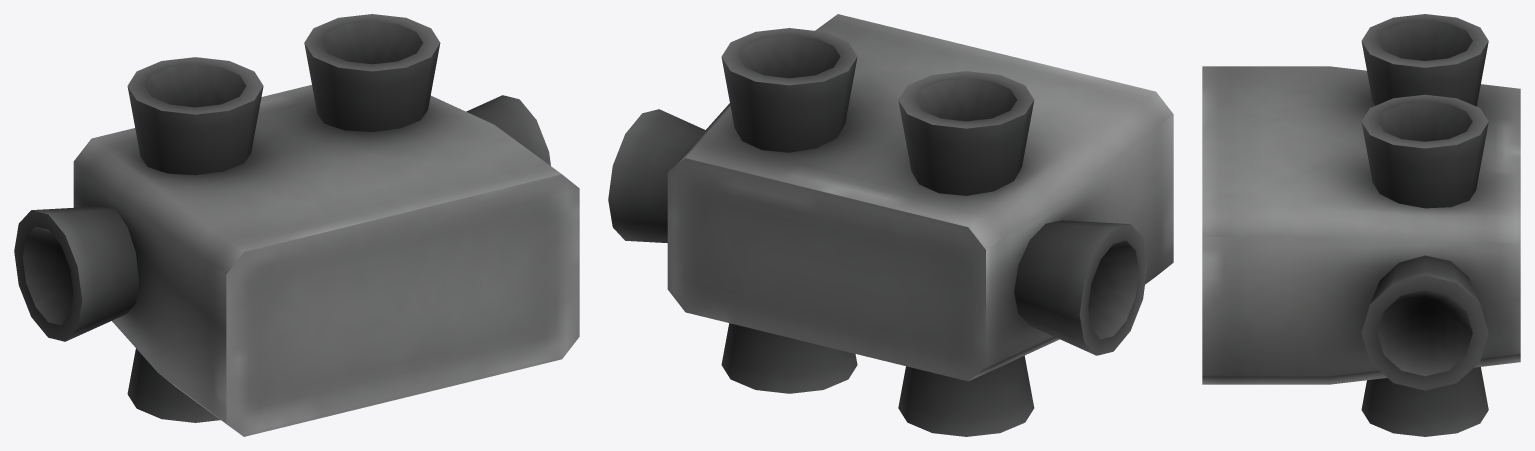
Rendered from octans_moe_srf_4.obj.
The picture shows the model from 3 angles, left to right: view 1: azimuth 30°, elevation 25°; view 2: azimuth 150°, elevation 25°; view 3: azimuth 270°, elevation 25°; orthographic projection. The views are drawn at different scales.
Parts seen in each view (by area): view 1: mesh; view 2: mesh; view 3: mesh.
Part boxes in pixels (x1=…): mesh: x1=14, y1=14, x2=579, y2=436; mesh: x1=608, y1=14, x2=1173, y2=436; mesh: x1=1202, y1=14, x2=1520, y2=436.
Bounding box in the file's own units: 0.2 × 0.125 × 0.125.
1 material, 1 textured.
